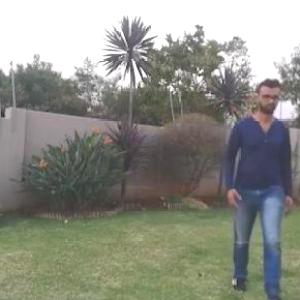follow: (235, 82, 292, 280)
